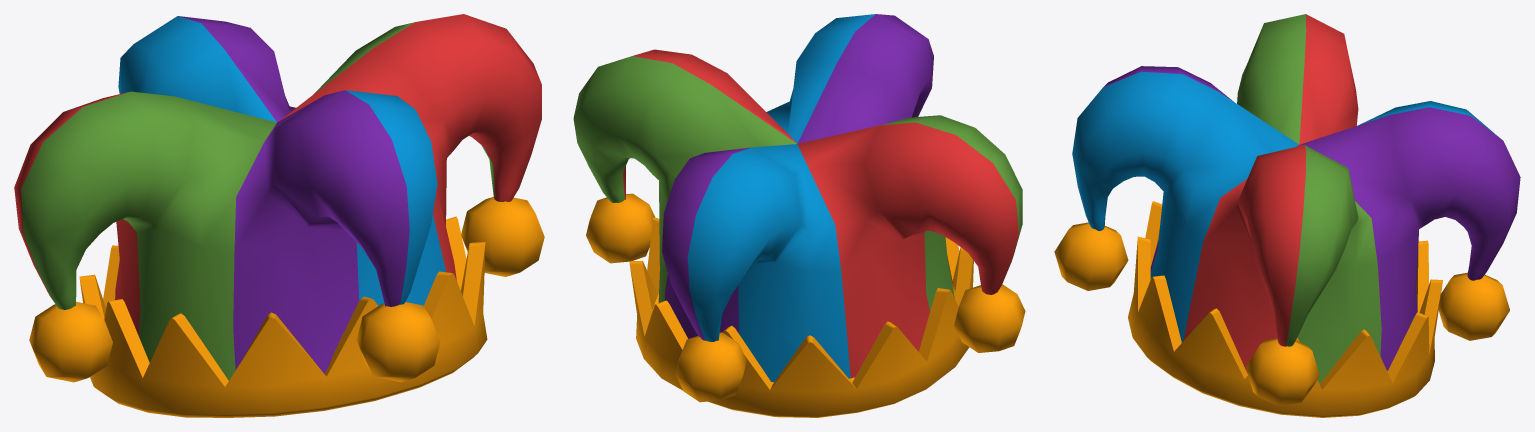
File: Costume_8_02.glb
The picture shows the model from 3 angles, left to right: view 1: azimuth 30°, elevation 25°; view 2: azimuth 150°, elevation 25°; view 3: azimuth 270°, elevation 25°; orthographic projection. The views are drawn at different scales.
Parts seen in each view (by area): view 1: Costume_8_02; view 2: Costume_8_02; view 3: Costume_8_02.
Boxes of the visible parts, bbox=[...] form: Costume_8_02: bbox=[14, 14, 544, 417]; Costume_8_02: bbox=[573, 14, 1025, 417]; Costume_8_02: bbox=[1054, 14, 1520, 417].
Bounding box in the file's own units: 0.8907 × 0.5654 × 0.8148.
1 material, 1 textured.
